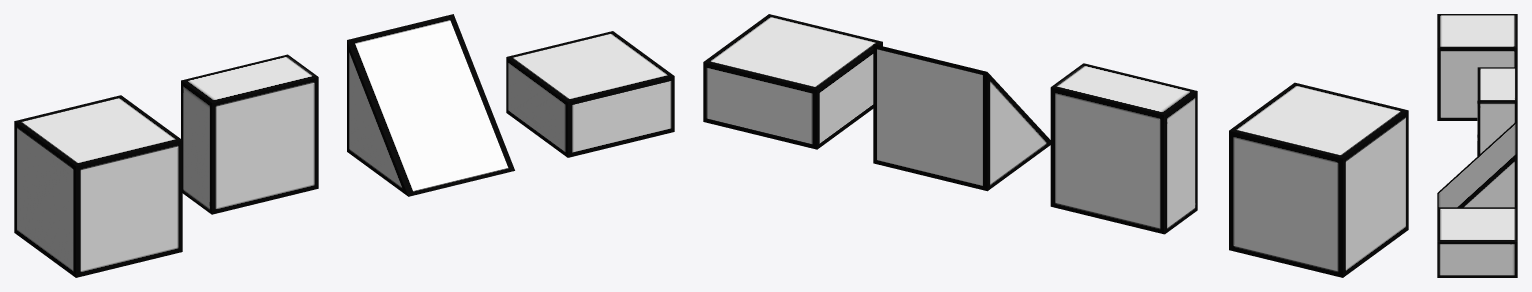
The model's file is BuildingBlocks.glb.
3 views of the same model, side by side, from view 1: azimuth 30°, elevation 25°; view 2: azimuth 150°, elevation 25°; view 3: azimuth 270°, elevation 25° (orthographic). The views are drawn at different scales.
Visible parts, largest first — view 1: BuildBlock, BuildRamp, BuildWall, BuildSlab; view 2: BuildBlock, BuildWall, BuildRamp, BuildSlab; view 3: BuildBlock, BuildSlab, BuildRamp, BuildWall.
Part boxes in pixels (left/top/right/bottom): BuildBlock: left=14, top=95, right=182, bottom=277; BuildRamp: left=347, top=14, right=514, bottom=196; BuildWall: left=181, top=54, right=318, bottom=214; BuildSlab: left=506, top=31, right=674, bottom=157; BuildBlock: left=1229, top=82, right=1408, bottom=277; BuildWall: left=1050, top=63, right=1197, bottom=234; BuildRamp: left=873, top=44, right=1050, bottom=191; BuildSlab: left=703, top=14, right=882, bottom=149; BuildBlock: left=1437, top=14, right=1517, bottom=120; BuildSlab: left=1437, top=207, right=1517, bottom=277; BuildRamp: left=1437, top=120, right=1517, bottom=207; BuildWall: left=1477, top=67, right=1517, bottom=156.
Size of what is drawn, in the model's own units: 5.61 by 1 by 1.
Materials: 1 (1 with a texture image).
